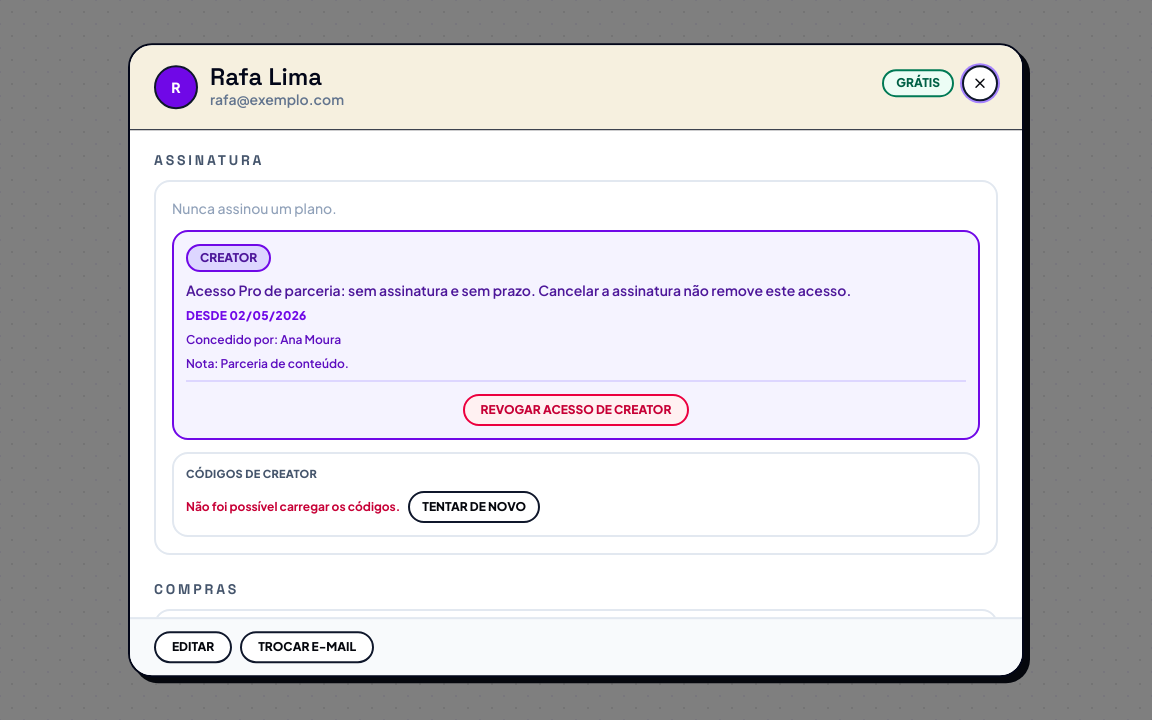
Test case: o botao de revogar nomeia o tipo da concessao › SEM kind: diz creator, e nao inventa um tipo
This screenshot has width=1152, height=720.
Click the button "Revogar acesso de creator" at (576, 410), box [463,394,689,426]
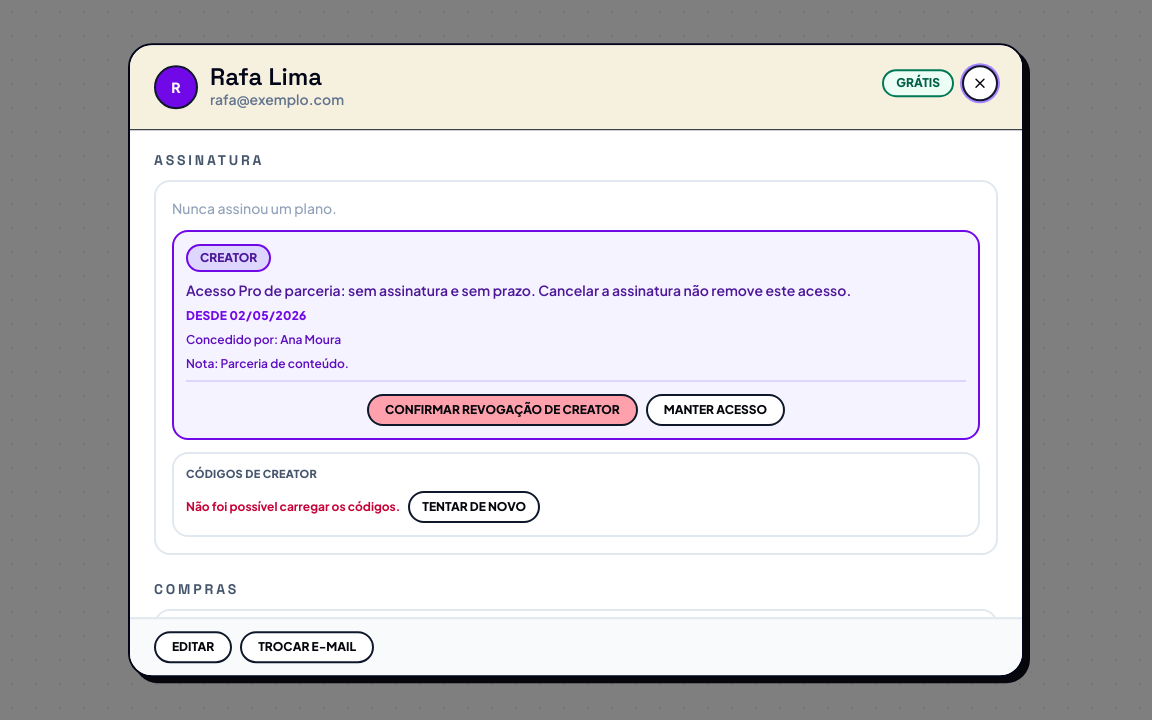
Expected: the button "Confirmar revogação de creator" is shown, [367,394,638,426]
